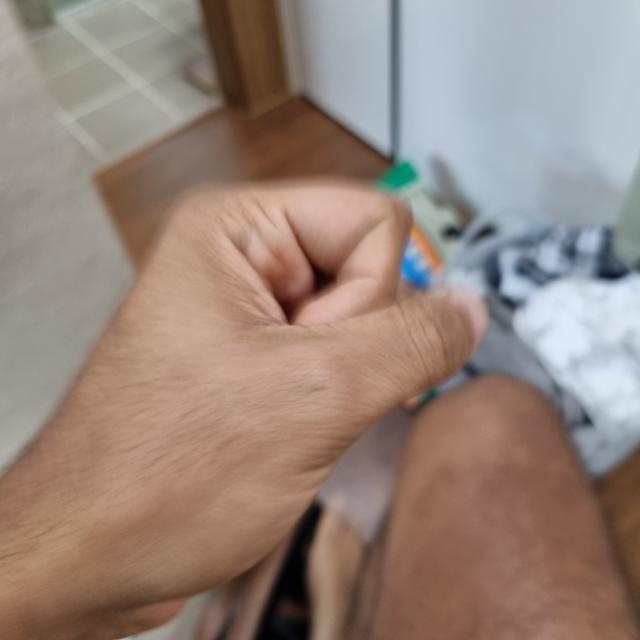Rock: (6, 180, 484, 611)
